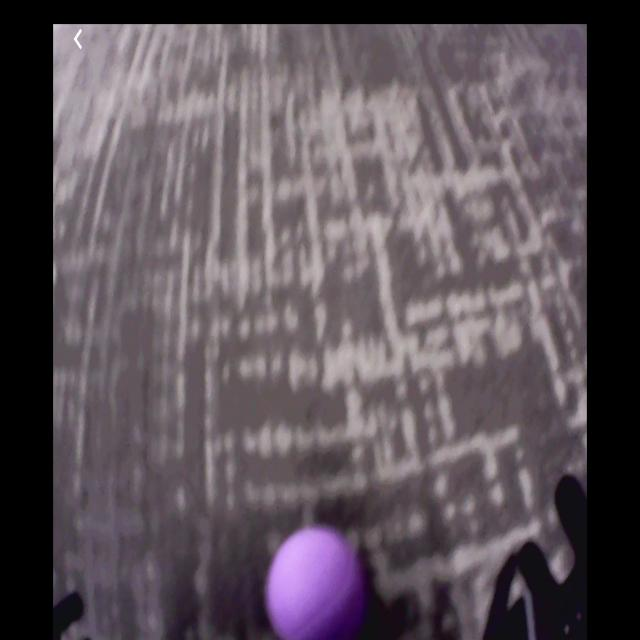ball: (265, 520, 363, 640)
